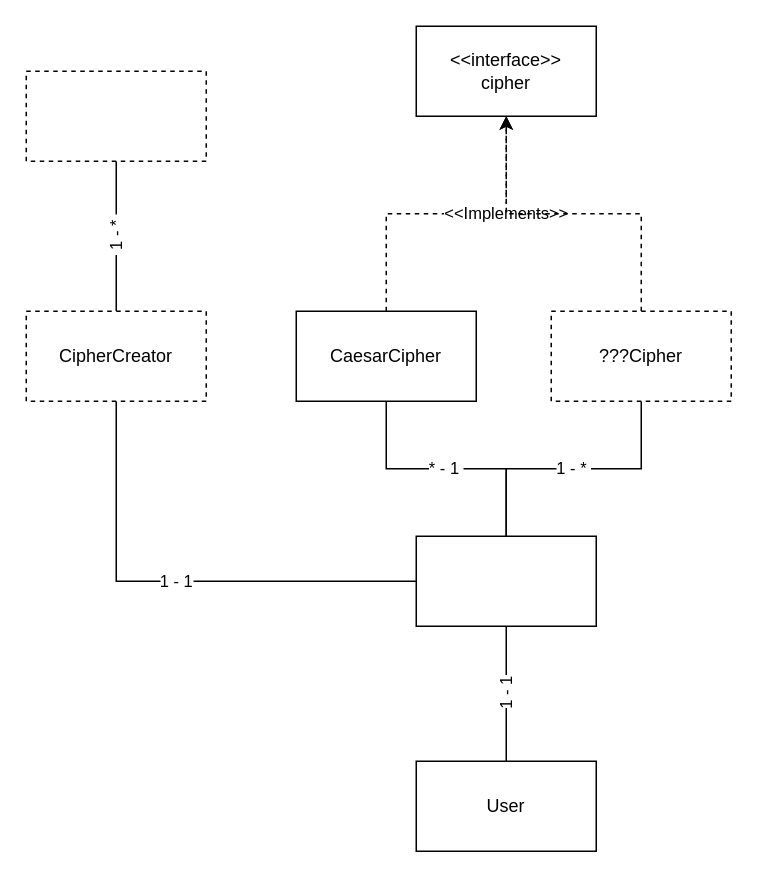
The diagram is 758 pixels wide and 878 high, and some of its shapes have lost their labels. Here are the shapes that lost their labels. From the top down, the centre of each, then its label:
At point (115, 115): "CustomCipher".
At point (505, 580): "UI".
